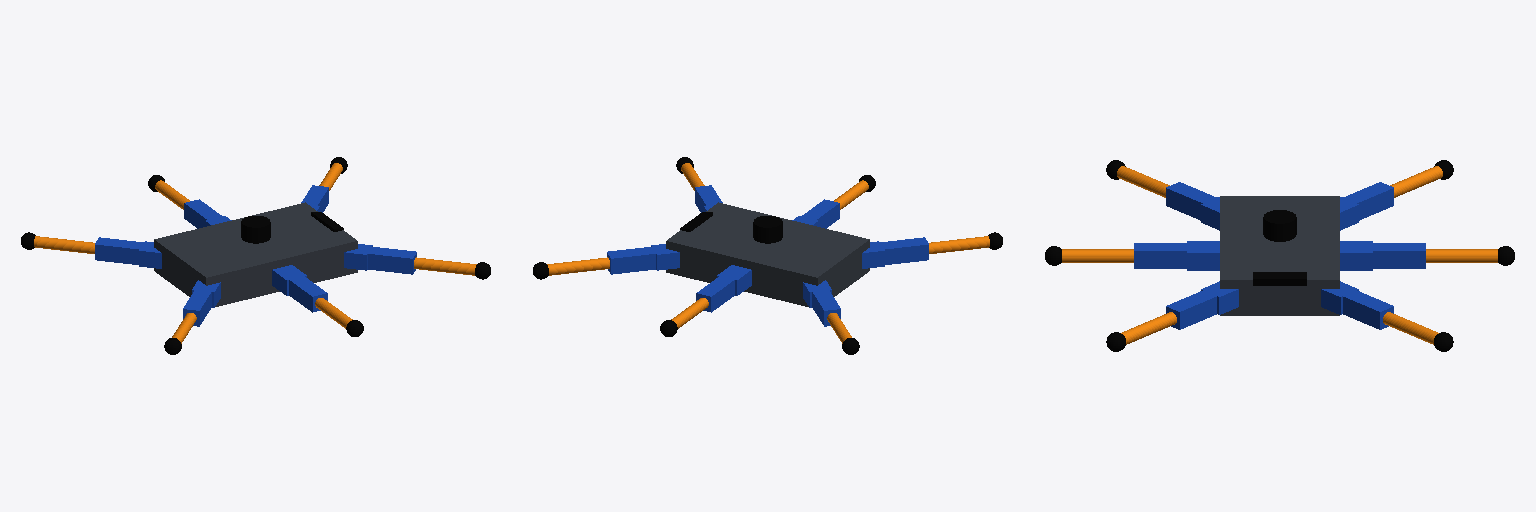
URDF robot description (gurdy):
<?xml version="1.0" ?>
<!-- =================================================================================== -->
<!-- |    This document was autogenerated by xacro from ros2_ws/src/gurdy_description/urdf/gurdy.urdf.xacro | -->
<!-- |    EDITING THIS FILE BY HAND IS NOT RECOMMENDED                                 | -->
<!-- =================================================================================== -->
<!-- Gurdy 2.0: 18-DOF hexapod. ALL numbers come from config/robot.yaml (single source of truth).
     Inertias are computed here from the shapes with the same formulas as gurdy_core.robot;
     test/test_urdf.py checks the expanded URDF against gurdy_core. -->
<robot name="gurdy">
  <material name="body_grey">
    <color rgba="0.25 0.27 0.30 1"/>
  </material>
  <material name="servo_blue">
    <color rgba="0.15 0.35 0.75 1"/>
  </material>
  <material name="leg_orange">
    <color rgba="0.95 0.55 0.10 1"/>
  </material>
  <material name="foot_black">
    <color rgba="0.05 0.05 0.05 1"/>
  </material>
  <!-- base_link: massless root frame (KDL/robot_state_publisher cannot use an inertial root).
       The body's mass lives in body_link on a fixed joint; Gazebo merges the two (same physics). -->
  <link name="base_link"/>
  <joint name="body_joint" type="fixed">
    <parent link="base_link"/>
    <child link="body_link"/>
    <origin rpy="0 0 0" xyz="0 0 0"/>
  </joint>
  <link name="body_link">
    <visual>
      <geometry>
        <box size="0.3 0.18 0.06"/>
      </geometry>
      <material name="body_grey"/>
    </visual>
    <collision>
      <geometry>
        <box size="0.3 0.18 0.06"/>
      </geometry>
    </collision>
    <inertial>
      <origin rpy="0 0 0" xyz="0 0 0"/>
      <mass value="1.4"/>
      <inertia ixx="0.004199999999999999" ixy="0" ixz="0" iyy="0.01092" iyz="0" izz="0.014279999999999998"/>
    </inertial>
  </link>
  <joint name="lf_hip_yaw" type="revolute">
    <parent link="base_link"/>
    <child link="lf_coxa"/>
    <origin rpy="0 0 0.785" xyz="0.13 0.07 0"/>
    <axis xyz="0 0 1"/>
    <limit effort="2.5" lower="-0.7" upper="0.7" velocity="6.0"/>
    <dynamics damping="0.42" friction="0.02"/>
  </joint>
  <link name="lf_coxa">
    <visual>
      <origin xyz="0.025 0 0"/>
      <geometry>
        <box size="0.05 0.04 0.03"/>
      </geometry>
      <material name="servo_blue"/>
    </visual>
    <inertial>
      <origin rpy="0 0 0" xyz="0.025 0 0"/>
      <mass value="0.1"/>
      <inertia ixx="2.0833333333333333e-05" ixy="0" ixz="0" iyy="2.8333333333333335e-05" iyz="0" izz="3.4166666666666666e-05"/>
    </inertial>
  </link>
  <!-- hip_pitch: + = femur up => axis -y -->
  <joint name="lf_hip_pitch" type="revolute">
    <parent link="lf_coxa"/>
    <child link="lf_femur"/>
    <origin rpy="0 0 0" xyz="0.05 0 0"/>
    <axis xyz="0 -1 0"/>
    <limit effort="2.5" lower="-1.0" upper="1.5" velocity="6.0"/>
    <dynamics damping="0.42" friction="0.02"/>
  </joint>
  <link name="lf_femur">
    <visual>
      <origin xyz="0.04 0 0"/>
      <geometry>
        <box size="0.08 0.03 0.03"/>
      </geometry>
      <material name="servo_blue"/>
    </visual>
    <inertial>
      <origin rpy="0 0 0" xyz="0.04 0 0"/>
      <mass value="0.12"/>
      <inertia ixx="1.8e-05" ixy="0" ixz="0" iyy="7.3e-05" iyz="0" izz="7.3e-05"/>
    </inertial>
  </link>
  <!-- knee: + = tibia bends DOWN => axis +y. Lower limit is 0 (one-sided). -->
  <joint name="lf_knee" type="revolute">
    <parent link="lf_femur"/>
    <child link="lf_tibia"/>
    <origin rpy="0 0 0" xyz="0.08 0 0"/>
    <axis xyz="0 1 0"/>
    <limit effort="2.5" lower="0.0" upper="2.4" velocity="6.0"/>
    <dynamics damping="0.42" friction="0.02"/>
  </joint>
  <link name="lf_tibia">
    <visual>
      <origin rpy="0 1.5707963267948966 0" xyz="0.06 0 0"/>
      <geometry>
        <cylinder length="0.12" radius="0.01"/>
      </geometry>
      <material name="leg_orange"/>
    </visual>
    <visual>
      <origin xyz="0.12 0 0"/>
      <geometry>
        <sphere radius="0.015"/>
      </geometry>
      <material name="foot_black"/>
    </visual>
    <!-- Only the foot collides with the world (legs are thin; keeps contacts cheap). -->
    <collision name="lf_foot_collision">
      <origin xyz="0.12 0 0"/>
      <geometry>
        <sphere radius="0.015"/>
      </geometry>
    </collision>
    <inertial>
      <origin rpy="0 0 0" xyz="0.06 0 0"/>
      <mass value="0.06"/>
      <!-- solid cylinder along x -->
      <inertia ixx="3e-06" ixy="0" ixz="0" iyy="7.35e-05" iyz="0" izz="7.35e-05"/>
    </inertial>
  </link>
  <!-- Massless foot frame at the foot centre (for IK, contact checks, TF). -->
  <joint name="lf_foot_joint" type="fixed">
    <parent link="lf_tibia"/>
    <child link="lf_foot"/>
    <origin xyz="0.12 0 0"/>
  </joint>
  <link name="lf_foot"/>
  <joint name="lm_hip_yaw" type="revolute">
    <parent link="base_link"/>
    <child link="lm_coxa"/>
    <origin rpy="0 0 1.571" xyz="0.0 0.09 0"/>
    <axis xyz="0 0 1"/>
    <limit effort="2.5" lower="-0.7" upper="0.7" velocity="6.0"/>
    <dynamics damping="0.42" friction="0.02"/>
  </joint>
  <link name="lm_coxa">
    <visual>
      <origin xyz="0.025 0 0"/>
      <geometry>
        <box size="0.05 0.04 0.03"/>
      </geometry>
      <material name="servo_blue"/>
    </visual>
    <inertial>
      <origin rpy="0 0 0" xyz="0.025 0 0"/>
      <mass value="0.1"/>
      <inertia ixx="2.0833333333333333e-05" ixy="0" ixz="0" iyy="2.8333333333333335e-05" iyz="0" izz="3.4166666666666666e-05"/>
    </inertial>
  </link>
  <!-- hip_pitch: + = femur up => axis -y -->
  <joint name="lm_hip_pitch" type="revolute">
    <parent link="lm_coxa"/>
    <child link="lm_femur"/>
    <origin rpy="0 0 0" xyz="0.05 0 0"/>
    <axis xyz="0 -1 0"/>
    <limit effort="2.5" lower="-1.0" upper="1.5" velocity="6.0"/>
    <dynamics damping="0.42" friction="0.02"/>
  </joint>
  <link name="lm_femur">
    <visual>
      <origin xyz="0.04 0 0"/>
      <geometry>
        <box size="0.08 0.03 0.03"/>
      </geometry>
      <material name="servo_blue"/>
    </visual>
    <inertial>
      <origin rpy="0 0 0" xyz="0.04 0 0"/>
      <mass value="0.12"/>
      <inertia ixx="1.8e-05" ixy="0" ixz="0" iyy="7.3e-05" iyz="0" izz="7.3e-05"/>
    </inertial>
  </link>
  <!-- knee: + = tibia bends DOWN => axis +y. Lower limit is 0 (one-sided). -->
  <joint name="lm_knee" type="revolute">
    <parent link="lm_femur"/>
    <child link="lm_tibia"/>
    <origin rpy="0 0 0" xyz="0.08 0 0"/>
    <axis xyz="0 1 0"/>
    <limit effort="2.5" lower="0.0" upper="2.4" velocity="6.0"/>
    <dynamics damping="0.42" friction="0.02"/>
  </joint>
  <link name="lm_tibia">
    <visual>
      <origin rpy="0 1.5707963267948966 0" xyz="0.06 0 0"/>
      <geometry>
        <cylinder length="0.12" radius="0.01"/>
      </geometry>
      <material name="leg_orange"/>
    </visual>
    <visual>
      <origin xyz="0.12 0 0"/>
      <geometry>
        <sphere radius="0.015"/>
      </geometry>
      <material name="foot_black"/>
    </visual>
    <!-- Only the foot collides with the world (legs are thin; keeps contacts cheap). -->
    <collision name="lm_foot_collision">
      <origin xyz="0.12 0 0"/>
      <geometry>
        <sphere radius="0.015"/>
      </geometry>
    </collision>
    <inertial>
      <origin rpy="0 0 0" xyz="0.06 0 0"/>
      <mass value="0.06"/>
      <!-- solid cylinder along x -->
      <inertia ixx="3e-06" ixy="0" ixz="0" iyy="7.35e-05" iyz="0" izz="7.35e-05"/>
    </inertial>
  </link>
  <!-- Massless foot frame at the foot centre (for IK, contact checks, TF). -->
  <joint name="lm_foot_joint" type="fixed">
    <parent link="lm_tibia"/>
    <child link="lm_foot"/>
    <origin xyz="0.12 0 0"/>
  </joint>
  <link name="lm_foot"/>
  <joint name="lr_hip_yaw" type="revolute">
    <parent link="base_link"/>
    <child link="lr_coxa"/>
    <origin rpy="0 0 2.356" xyz="-0.13 0.07 0"/>
    <axis xyz="0 0 1"/>
    <limit effort="2.5" lower="-0.7" upper="0.7" velocity="6.0"/>
    <dynamics damping="0.42" friction="0.02"/>
  </joint>
  <link name="lr_coxa">
    <visual>
      <origin xyz="0.025 0 0"/>
      <geometry>
        <box size="0.05 0.04 0.03"/>
      </geometry>
      <material name="servo_blue"/>
    </visual>
    <inertial>
      <origin rpy="0 0 0" xyz="0.025 0 0"/>
      <mass value="0.1"/>
      <inertia ixx="2.0833333333333333e-05" ixy="0" ixz="0" iyy="2.8333333333333335e-05" iyz="0" izz="3.4166666666666666e-05"/>
    </inertial>
  </link>
  <!-- hip_pitch: + = femur up => axis -y -->
  <joint name="lr_hip_pitch" type="revolute">
    <parent link="lr_coxa"/>
    <child link="lr_femur"/>
    <origin rpy="0 0 0" xyz="0.05 0 0"/>
    <axis xyz="0 -1 0"/>
    <limit effort="2.5" lower="-1.0" upper="1.5" velocity="6.0"/>
    <dynamics damping="0.42" friction="0.02"/>
  </joint>
  <link name="lr_femur">
    <visual>
      <origin xyz="0.04 0 0"/>
      <geometry>
        <box size="0.08 0.03 0.03"/>
      </geometry>
      <material name="servo_blue"/>
    </visual>
    <inertial>
      <origin rpy="0 0 0" xyz="0.04 0 0"/>
      <mass value="0.12"/>
      <inertia ixx="1.8e-05" ixy="0" ixz="0" iyy="7.3e-05" iyz="0" izz="7.3e-05"/>
    </inertial>
  </link>
  <!-- knee: + = tibia bends DOWN => axis +y. Lower limit is 0 (one-sided). -->
  <joint name="lr_knee" type="revolute">
    <parent link="lr_femur"/>
    <child link="lr_tibia"/>
    <origin rpy="0 0 0" xyz="0.08 0 0"/>
    <axis xyz="0 1 0"/>
    <limit effort="2.5" lower="0.0" upper="2.4" velocity="6.0"/>
    <dynamics damping="0.42" friction="0.02"/>
  </joint>
  <link name="lr_tibia">
    <visual>
      <origin rpy="0 1.5707963267948966 0" xyz="0.06 0 0"/>
      <geometry>
        <cylinder length="0.12" radius="0.01"/>
      </geometry>
      <material name="leg_orange"/>
    </visual>
    <visual>
      <origin xyz="0.12 0 0"/>
      <geometry>
        <sphere radius="0.015"/>
      </geometry>
      <material name="foot_black"/>
    </visual>
    <!-- Only the foot collides with the world (legs are thin; keeps contacts cheap). -->
    <collision name="lr_foot_collision">
      <origin xyz="0.12 0 0"/>
      <geometry>
        <sphere radius="0.015"/>
      </geometry>
    </collision>
    <inertial>
      <origin rpy="0 0 0" xyz="0.06 0 0"/>
      <mass value="0.06"/>
      <!-- solid cylinder along x -->
      <inertia ixx="3e-06" ixy="0" ixz="0" iyy="7.35e-05" iyz="0" izz="7.35e-05"/>
    </inertial>
  </link>
  <!-- Massless foot frame at the foot centre (for IK, contact checks, TF). -->
  <joint name="lr_foot_joint" type="fixed">
    <parent link="lr_tibia"/>
    <child link="lr_foot"/>
    <origin xyz="0.12 0 0"/>
  </joint>
  <link name="lr_foot"/>
  <joint name="rf_hip_yaw" type="revolute">
    <parent link="base_link"/>
    <child link="rf_coxa"/>
    <origin rpy="0 0 -0.785" xyz="0.13 -0.07 0"/>
    <axis xyz="0 0 1"/>
    <limit effort="2.5" lower="-0.7" upper="0.7" velocity="6.0"/>
    <dynamics damping="0.42" friction="0.02"/>
  </joint>
  <link name="rf_coxa">
    <visual>
      <origin xyz="0.025 0 0"/>
      <geometry>
        <box size="0.05 0.04 0.03"/>
      </geometry>
      <material name="servo_blue"/>
    </visual>
    <inertial>
      <origin rpy="0 0 0" xyz="0.025 0 0"/>
      <mass value="0.1"/>
      <inertia ixx="2.0833333333333333e-05" ixy="0" ixz="0" iyy="2.8333333333333335e-05" iyz="0" izz="3.4166666666666666e-05"/>
    </inertial>
  </link>
  <!-- hip_pitch: + = femur up => axis -y -->
  <joint name="rf_hip_pitch" type="revolute">
    <parent link="rf_coxa"/>
    <child link="rf_femur"/>
    <origin rpy="0 0 0" xyz="0.05 0 0"/>
    <axis xyz="0 -1 0"/>
    <limit effort="2.5" lower="-1.0" upper="1.5" velocity="6.0"/>
    <dynamics damping="0.42" friction="0.02"/>
  </joint>
  <link name="rf_femur">
    <visual>
      <origin xyz="0.04 0 0"/>
      <geometry>
        <box size="0.08 0.03 0.03"/>
      </geometry>
      <material name="servo_blue"/>
    </visual>
    <inertial>
      <origin rpy="0 0 0" xyz="0.04 0 0"/>
      <mass value="0.12"/>
      <inertia ixx="1.8e-05" ixy="0" ixz="0" iyy="7.3e-05" iyz="0" izz="7.3e-05"/>
    </inertial>
  </link>
  <!-- knee: + = tibia bends DOWN => axis +y. Lower limit is 0 (one-sided). -->
  <joint name="rf_knee" type="revolute">
    <parent link="rf_femur"/>
    <child link="rf_tibia"/>
    <origin rpy="0 0 0" xyz="0.08 0 0"/>
    <axis xyz="0 1 0"/>
    <limit effort="2.5" lower="0.0" upper="2.4" velocity="6.0"/>
    <dynamics damping="0.42" friction="0.02"/>
  </joint>
  <link name="rf_tibia">
    <visual>
      <origin rpy="0 1.5707963267948966 0" xyz="0.06 0 0"/>
      <geometry>
        <cylinder length="0.12" radius="0.01"/>
      </geometry>
      <material name="leg_orange"/>
    </visual>
    <visual>
      <origin xyz="0.12 0 0"/>
      <geometry>
        <sphere radius="0.015"/>
      </geometry>
      <material name="foot_black"/>
    </visual>
    <!-- Only the foot collides with the world (legs are thin; keeps contacts cheap). -->
    <collision name="rf_foot_collision">
      <origin xyz="0.12 0 0"/>
      <geometry>
        <sphere radius="0.015"/>
      </geometry>
    </collision>
    <inertial>
      <origin rpy="0 0 0" xyz="0.06 0 0"/>
      <mass value="0.06"/>
      <!-- solid cylinder along x -->
      <inertia ixx="3e-06" ixy="0" ixz="0" iyy="7.35e-05" iyz="0" izz="7.35e-05"/>
    </inertial>
  </link>
  <!-- Massless foot frame at the foot centre (for IK, contact checks, TF). -->
  <joint name="rf_foot_joint" type="fixed">
    <parent link="rf_tibia"/>
    <child link="rf_foot"/>
    <origin xyz="0.12 0 0"/>
  </joint>
  <link name="rf_foot"/>
  <joint name="rm_hip_yaw" type="revolute">
    <parent link="base_link"/>
    <child link="rm_coxa"/>
    <origin rpy="0 0 -1.571" xyz="0.0 -0.09 0"/>
    <axis xyz="0 0 1"/>
    <limit effort="2.5" lower="-0.7" upper="0.7" velocity="6.0"/>
    <dynamics damping="0.42" friction="0.02"/>
  </joint>
  <link name="rm_coxa">
    <visual>
      <origin xyz="0.025 0 0"/>
      <geometry>
        <box size="0.05 0.04 0.03"/>
      </geometry>
      <material name="servo_blue"/>
    </visual>
    <inertial>
      <origin rpy="0 0 0" xyz="0.025 0 0"/>
      <mass value="0.1"/>
      <inertia ixx="2.0833333333333333e-05" ixy="0" ixz="0" iyy="2.8333333333333335e-05" iyz="0" izz="3.4166666666666666e-05"/>
    </inertial>
  </link>
  <!-- hip_pitch: + = femur up => axis -y -->
  <joint name="rm_hip_pitch" type="revolute">
    <parent link="rm_coxa"/>
    <child link="rm_femur"/>
    <origin rpy="0 0 0" xyz="0.05 0 0"/>
    <axis xyz="0 -1 0"/>
    <limit effort="2.5" lower="-1.0" upper="1.5" velocity="6.0"/>
    <dynamics damping="0.42" friction="0.02"/>
  </joint>
  <link name="rm_femur">
    <visual>
      <origin xyz="0.04 0 0"/>
      <geometry>
        <box size="0.08 0.03 0.03"/>
      </geometry>
      <material name="servo_blue"/>
    </visual>
    <inertial>
      <origin rpy="0 0 0" xyz="0.04 0 0"/>
      <mass value="0.12"/>
      <inertia ixx="1.8e-05" ixy="0" ixz="0" iyy="7.3e-05" iyz="0" izz="7.3e-05"/>
    </inertial>
  </link>
  <!-- knee: + = tibia bends DOWN => axis +y. Lower limit is 0 (one-sided). -->
  <joint name="rm_knee" type="revolute">
    <parent link="rm_femur"/>
    <child link="rm_tibia"/>
    <origin rpy="0 0 0" xyz="0.08 0 0"/>
    <axis xyz="0 1 0"/>
    <limit effort="2.5" lower="0.0" upper="2.4" velocity="6.0"/>
    <dynamics damping="0.42" friction="0.02"/>
  </joint>
  <link name="rm_tibia">
    <visual>
      <origin rpy="0 1.5707963267948966 0" xyz="0.06 0 0"/>
      <geometry>
        <cylinder length="0.12" radius="0.01"/>
      </geometry>
      <material name="leg_orange"/>
    </visual>
    <visual>
      <origin xyz="0.12 0 0"/>
      <geometry>
        <sphere radius="0.015"/>
      </geometry>
      <material name="foot_black"/>
    </visual>
    <!-- Only the foot collides with the world (legs are thin; keeps contacts cheap). -->
    <collision name="rm_foot_collision">
      <origin xyz="0.12 0 0"/>
      <geometry>
        <sphere radius="0.015"/>
      </geometry>
    </collision>
    <inertial>
      <origin rpy="0 0 0" xyz="0.06 0 0"/>
      <mass value="0.06"/>
      <!-- solid cylinder along x -->
      <inertia ixx="3e-06" ixy="0" ixz="0" iyy="7.35e-05" iyz="0" izz="7.35e-05"/>
    </inertial>
  </link>
  <!-- Massless foot frame at the foot centre (for IK, contact checks, TF). -->
  <joint name="rm_foot_joint" type="fixed">
    <parent link="rm_tibia"/>
    <child link="rm_foot"/>
    <origin xyz="0.12 0 0"/>
  </joint>
  <link name="rm_foot"/>
  <joint name="rr_hip_yaw" type="revolute">
    <parent link="base_link"/>
    <child link="rr_coxa"/>
    <origin rpy="0 0 -2.356" xyz="-0.13 -0.07 0"/>
    <axis xyz="0 0 1"/>
    <limit effort="2.5" lower="-0.7" upper="0.7" velocity="6.0"/>
    <dynamics damping="0.42" friction="0.02"/>
  </joint>
  <link name="rr_coxa">
    <visual>
      <origin xyz="0.025 0 0"/>
      <geometry>
        <box size="0.05 0.04 0.03"/>
      </geometry>
      <material name="servo_blue"/>
    </visual>
    <inertial>
      <origin rpy="0 0 0" xyz="0.025 0 0"/>
      <mass value="0.1"/>
      <inertia ixx="2.0833333333333333e-05" ixy="0" ixz="0" iyy="2.8333333333333335e-05" iyz="0" izz="3.4166666666666666e-05"/>
    </inertial>
  </link>
  <!-- hip_pitch: + = femur up => axis -y -->
  <joint name="rr_hip_pitch" type="revolute">
    <parent link="rr_coxa"/>
    <child link="rr_femur"/>
    <origin rpy="0 0 0" xyz="0.05 0 0"/>
    <axis xyz="0 -1 0"/>
    <limit effort="2.5" lower="-1.0" upper="1.5" velocity="6.0"/>
    <dynamics damping="0.42" friction="0.02"/>
  </joint>
  <link name="rr_femur">
    <visual>
      <origin xyz="0.04 0 0"/>
      <geometry>
        <box size="0.08 0.03 0.03"/>
      </geometry>
      <material name="servo_blue"/>
    </visual>
    <inertial>
      <origin rpy="0 0 0" xyz="0.04 0 0"/>
      <mass value="0.12"/>
      <inertia ixx="1.8e-05" ixy="0" ixz="0" iyy="7.3e-05" iyz="0" izz="7.3e-05"/>
    </inertial>
  </link>
  <!-- knee: + = tibia bends DOWN => axis +y. Lower limit is 0 (one-sided). -->
  <joint name="rr_knee" type="revolute">
    <parent link="rr_femur"/>
    <child link="rr_tibia"/>
    <origin rpy="0 0 0" xyz="0.08 0 0"/>
    <axis xyz="0 1 0"/>
    <limit effort="2.5" lower="0.0" upper="2.4" velocity="6.0"/>
    <dynamics damping="0.42" friction="0.02"/>
  </joint>
  <link name="rr_tibia">
    <visual>
      <origin rpy="0 1.5707963267948966 0" xyz="0.06 0 0"/>
      <geometry>
        <cylinder length="0.12" radius="0.01"/>
      </geometry>
      <material name="leg_orange"/>
    </visual>
    <visual>
      <origin xyz="0.12 0 0"/>
      <geometry>
        <sphere radius="0.015"/>
      </geometry>
      <material name="foot_black"/>
    </visual>
    <!-- Only the foot collides with the world (legs are thin; keeps contacts cheap). -->
    <collision name="rr_foot_collision">
      <origin xyz="0.12 0 0"/>
      <geometry>
        <sphere radius="0.015"/>
      </geometry>
    </collision>
    <inertial>
      <origin rpy="0 0 0" xyz="0.06 0 0"/>
      <mass value="0.06"/>
      <!-- solid cylinder along x -->
      <inertia ixx="3e-06" ixy="0" ixz="0" iyy="7.35e-05" iyz="0" izz="7.35e-05"/>
    </inertial>
  </link>
  <!-- Massless foot frame at the foot centre (for IK, contact checks, TF). -->
  <joint name="rr_foot_joint" type="fixed">
    <parent link="rr_tibia"/>
    <child link="rr_foot"/>
    <origin xyz="0.12 0 0"/>
  </joint>
  <link name="rr_foot"/>
  <joint name="imu_joint" type="fixed">
    <parent link="base_link"/>
    <child link="imu_link"/>
    <origin xyz="0.0 0.0 0.0"/>
  </joint>
  <link name="imu_link"/>
  <joint name="camera_joint" type="fixed">
    <parent link="base_link"/>
    <child link="camera_link"/>
    <origin rpy="0 0.17 0" xyz="0.15 0.0 0.02"/>
  </joint>
  <link name="camera_link">
    <visual>
      <origin xyz="-0.01 0 0"/>
      <geometry>
        <box size="0.02 0.08 0.025"/>
      </geometry>
      <material name="foot_black"/>
    </visual>
  </link>
  <!-- ROS optical convention: z forward, x right, y down -->
  <joint name="camera_optical_joint" type="fixed">
    <parent link="camera_link"/>
    <child link="camera_optical_frame"/>
    <origin rpy="-1.5707963267948966 0 -1.5707963267948966" xyz="0 0 0"/>
  </joint>
  <link name="camera_optical_frame"/>
  <joint name="lidar_joint" type="fixed">
    <parent link="base_link"/>
    <child link="lidar_link"/>
    <origin xyz="0.0 0.0 0.05"/>
  </joint>
  <link name="lidar_link">
    <visual>
      <geometry>
        <cylinder length="0.03" radius="0.025"/>
      </geometry>
      <material name="foot_black"/>
    </visual>
  </link>
</robot>

--- Render facts (derived) ---
3 views of the same robot in one strip: view 1: azimuth 30°, elevation 25°; view 2: azimuth 150°, elevation 25°; view 3: azimuth 270°, elevation 25° (orthographic).
Model gurdy with 30 links and 29 joints (18 revolute, 11 fixed), rooted at base_link, posed all joints at 0.
Visible links, largest first — view 1: body_link, rf_femur, lr_femur, rf_tibia, lr_tibia, rm_femur, lidar_link, rm_tibia, rr_femur, lm_femur, rr_tibia, rm_coxa (+2 smaller); view 2: body_link, lf_femur, rr_femur, lf_tibia, rr_tibia, lm_femur, lidar_link, lm_tibia, lr_femur, rm_femur, lr_tibia, lm_coxa (+2 smaller); view 3: body_link, lm_femur, rm_femur, lm_tibia, rm_tibia, lf_femur, rf_femur, lr_femur, rr_femur, lf_tibia, rf_tibia, lm_coxa (+7 smaller).
Link boxes in pixels (x1,y1,x2,y2): body_link: (154, 202, 357, 306); rf_femur: (368, 247, 416, 274); lr_femur: (95, 237, 143, 264); rf_tibia: (414, 257, 490, 279); lr_tibia: (21, 232, 94, 253); rm_femur: (289, 276, 327, 312); lidar_link: (241, 216, 270, 243); rm_tibia: (315, 298, 363, 336); rr_femur: (183, 290, 211, 326); lm_femur: (184, 199, 221, 228); rr_tibia: (164, 313, 196, 354); rm_coxa: (272, 265, 306, 295); body_link: (666, 202, 869, 306); lf_femur: (607, 247, 655, 274); rr_femur: (880, 237, 928, 264); lf_tibia: (533, 257, 609, 279); rr_tibia: (929, 232, 1002, 253); lm_femur: (696, 276, 734, 312); lidar_link: (753, 216, 782, 243); lm_tibia: (660, 298, 708, 336); lr_femur: (812, 290, 840, 326); rm_femur: (802, 199, 839, 228); lr_tibia: (827, 313, 859, 354); lm_coxa: (717, 265, 751, 295); body_link: (1220, 196, 1339, 315); lm_femur: (1373, 243, 1425, 268); rm_femur: (1134, 243, 1186, 268); lm_tibia: (1426, 246, 1514, 265); rm_tibia: (1045, 246, 1133, 265); lf_femur: (1343, 291, 1393, 329); rf_femur: (1166, 291, 1216, 329); lr_femur: (1343, 182, 1393, 220); rr_femur: (1166, 182, 1216, 220); lf_tibia: (1383, 312, 1453, 351); rf_tibia: (1106, 312, 1176, 351); lm_coxa: (1340, 241, 1372, 270).
Bounding box of the posed robot: 0.6436 × 0.71 × 0.095 m (x, y, z).
Geometry: primitives only (box / cylinder / sphere), no mesh files.
